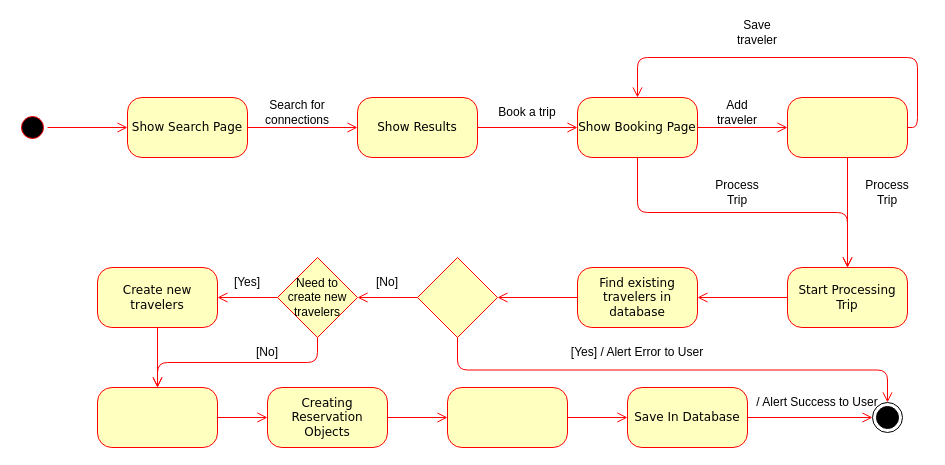
Image size: 945x465. Some labels were removed from this diagram. The shapes that lost their labels are listed below. From the top down, each one's box as (x1, y1, x2, y2) in pixels, then its label:
(786, 96, 908, 158): Show Traveler Details
(416, 256, 498, 338): Traveler has existing trip with the same connection
(96, 386, 218, 448): Creating Trip Object
(446, 386, 568, 448): Creating Ticket Objects
